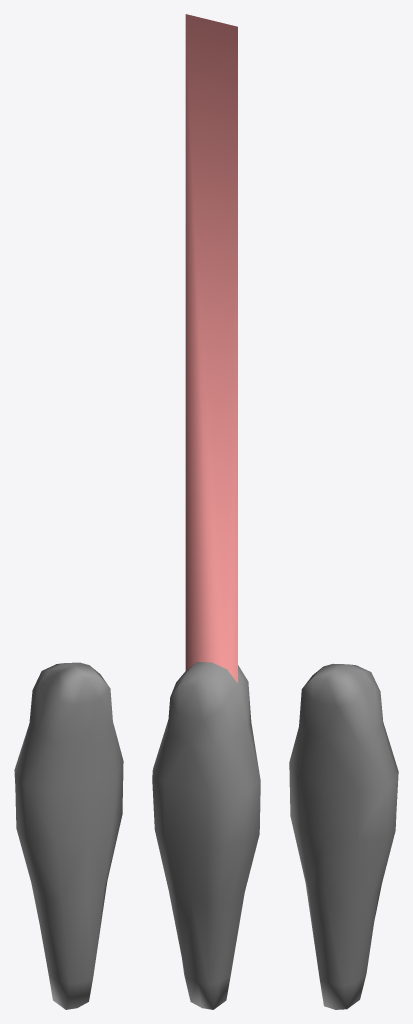
3 views of the same model, side by side, from view 1: azimuth 30°, elevation 25°; view 2: azimuth 150°, elevation 25°; view 3: azimuth 330°, elevation 25° (orthographic).
Visible parts, largest first — view 1: base_02; view 2: base_02; view 3: base_02.
Boxes of the visible parts, bbox=[...] form: base_02: bbox=[14, 662, 123, 1009]; base_02: bbox=[152, 14, 260, 1009]; base_02: bbox=[289, 663, 398, 1009].
Bounding box in the file's own units: 0.2765 × 2.65 × 0.1957.
